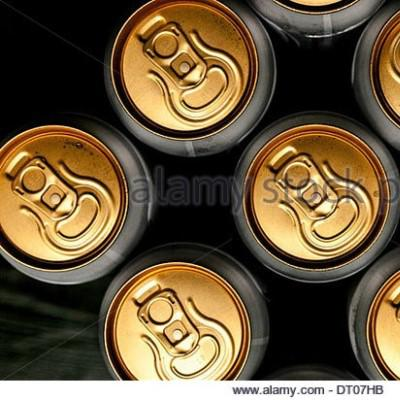beer: (2, 124, 159, 284)
